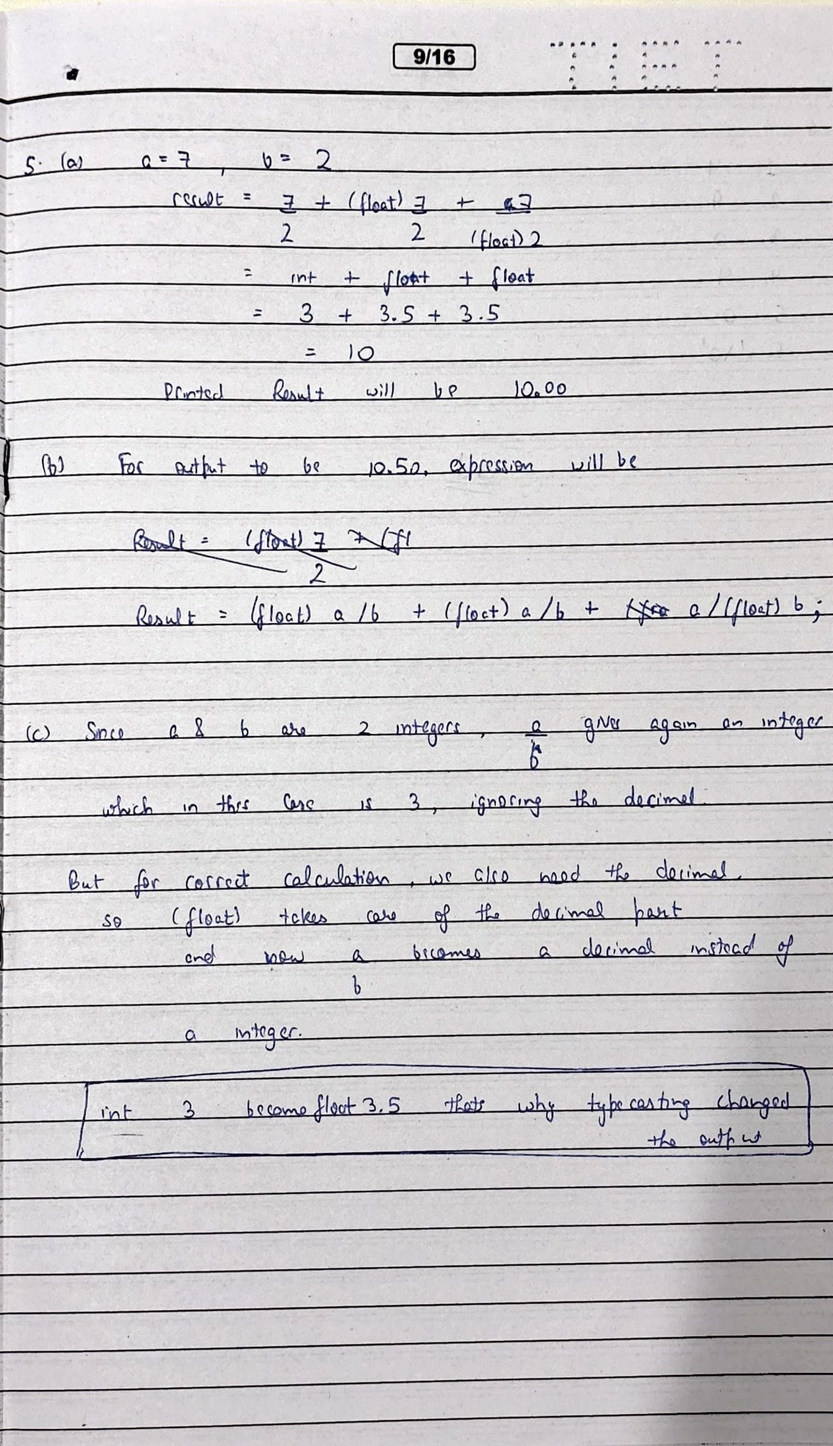cuttings: (126, 521, 421, 589), (623, 596, 673, 629), (502, 196, 516, 211)
